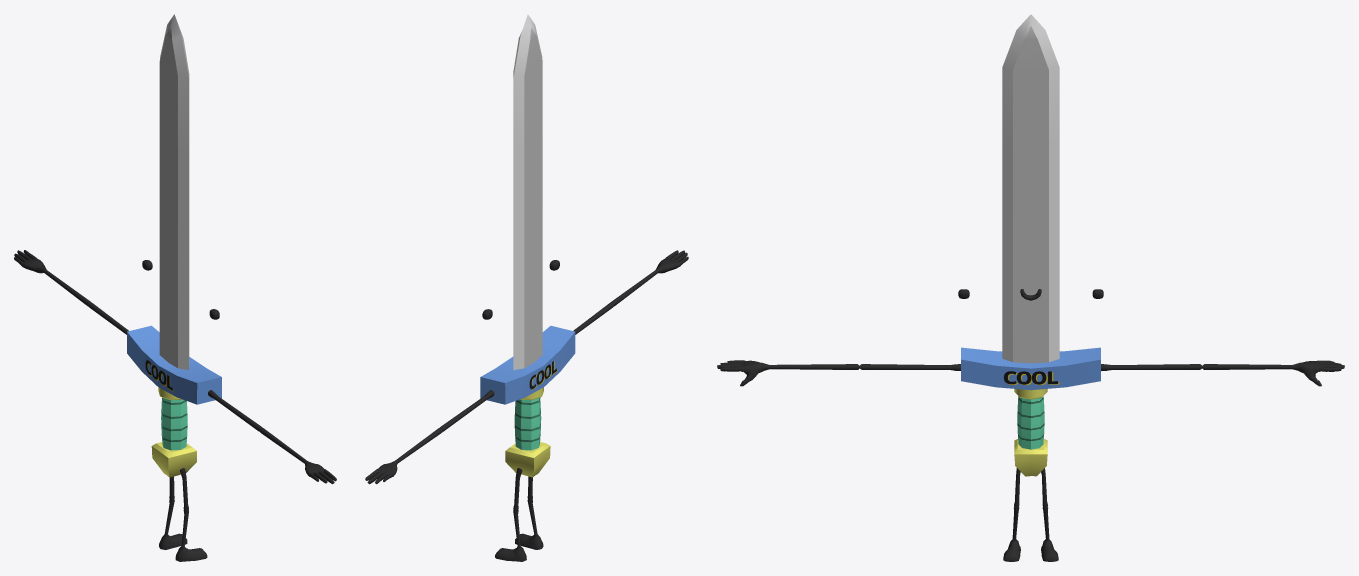
Rendered from Sword_Character.glb.
3 views of the same model, side by side, from view 1: azimuth 30°, elevation 25°; view 2: azimuth 150°, elevation 25°; view 3: azimuth 270°, elevation 25° (orthographic).
Visible parts, largest first — view 1: _100Avatars_186_CoolSword; view 2: _100Avatars_186_CoolSword; view 3: _100Avatars_186_CoolSword.
Part boxes in pixels (x1,y1,x2,y2): _100Avatars_186_CoolSword: [14, 14, 336, 561]; _100Avatars_186_CoolSword: [365, 14, 688, 561]; _100Avatars_186_CoolSword: [717, 14, 1344, 561].
Bounding box in the file's own units: 0.3676 × 5.08 × 5.38.
Materials: 1 (1 with a texture image).
